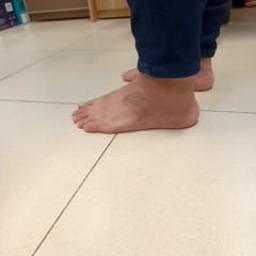Lateral View -Left Foot-: (50, 53, 216, 155)
